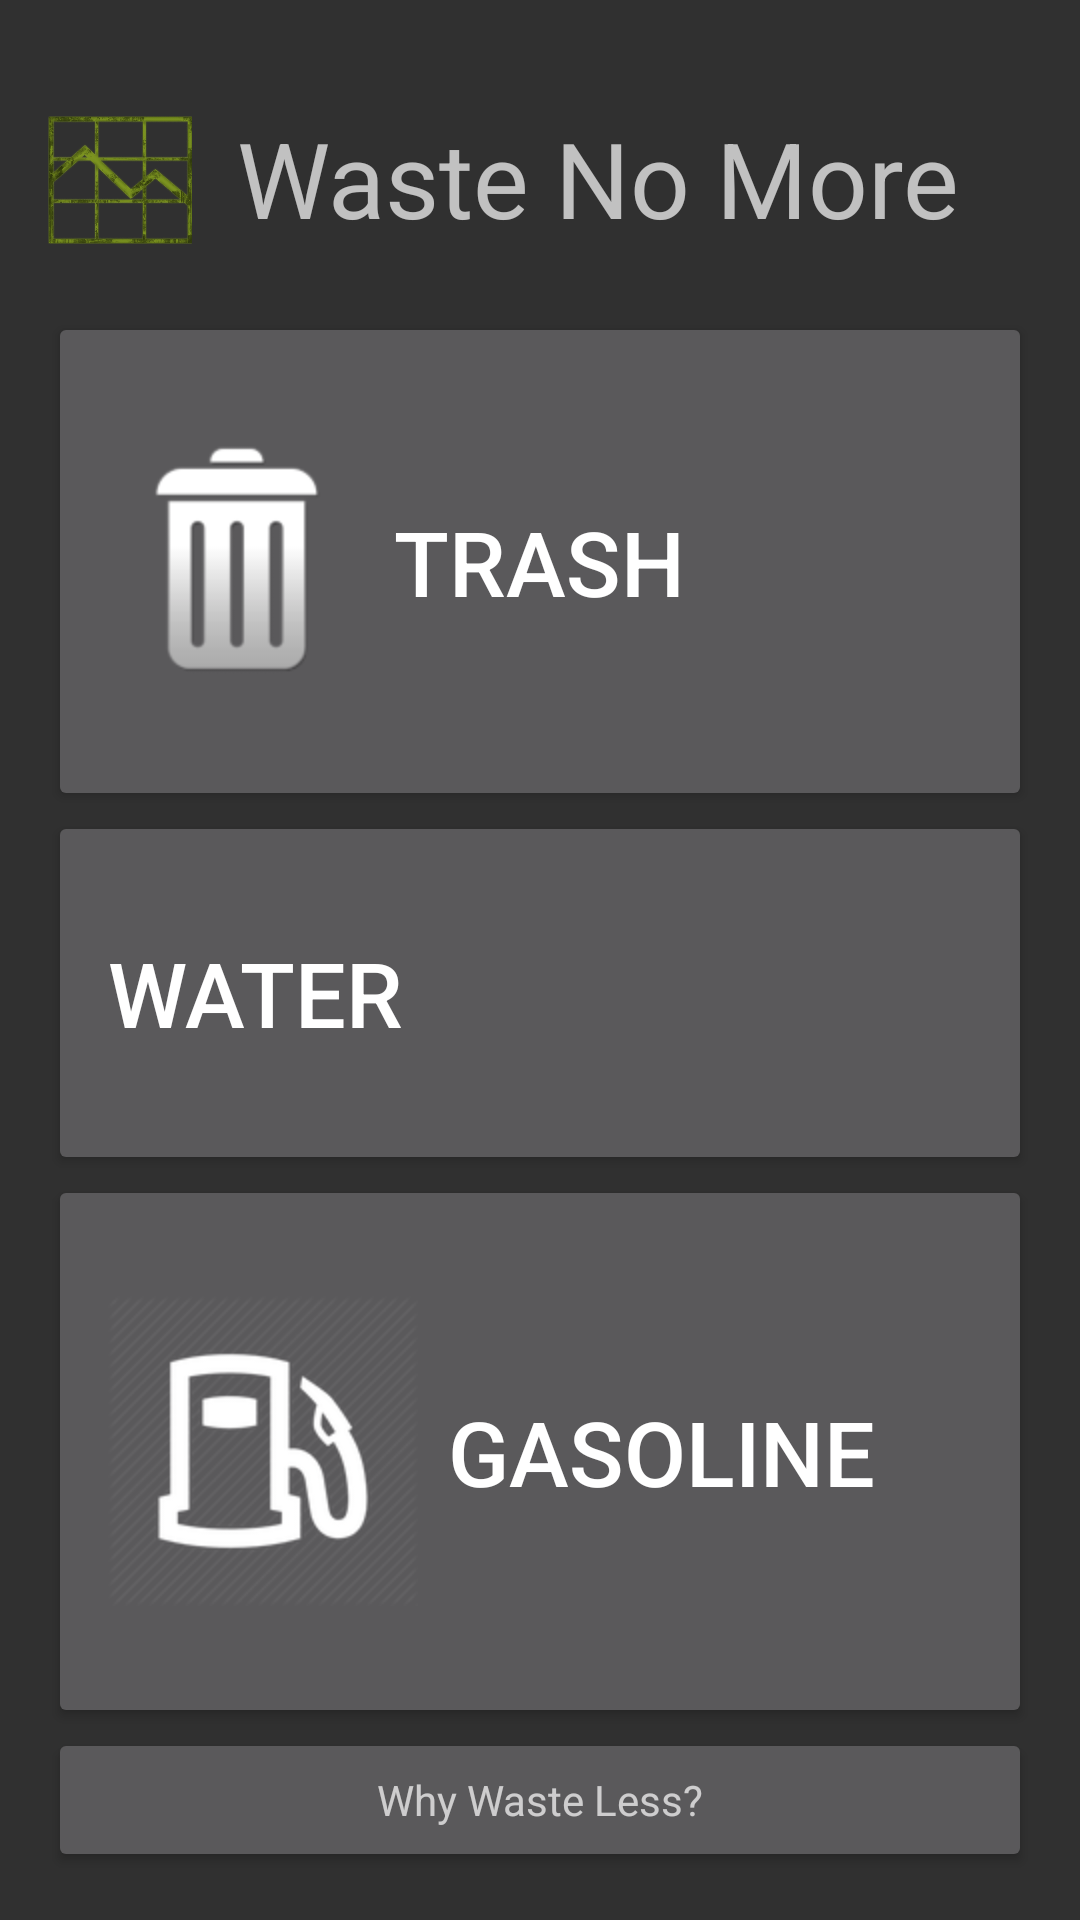

Icon bounding boxes for this 1080w x 1920h phone screenshot, format (x1, y1, x2, y2):
chart: (48, 116, 192, 244)
